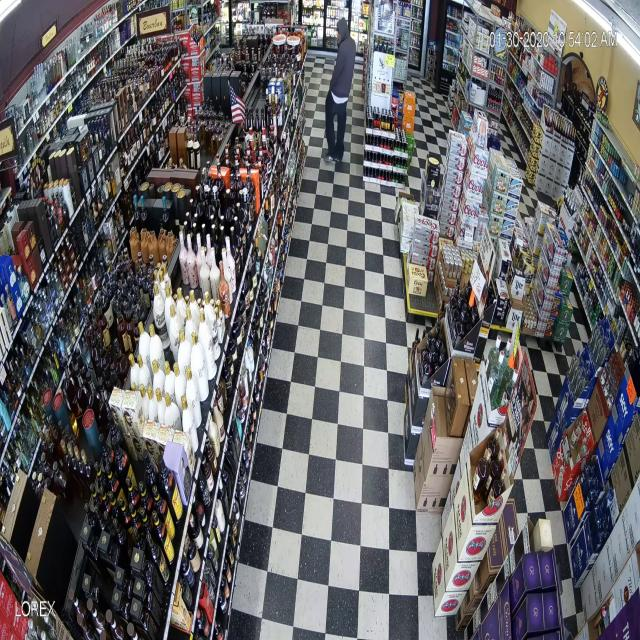normal: (311, 1, 375, 211)
